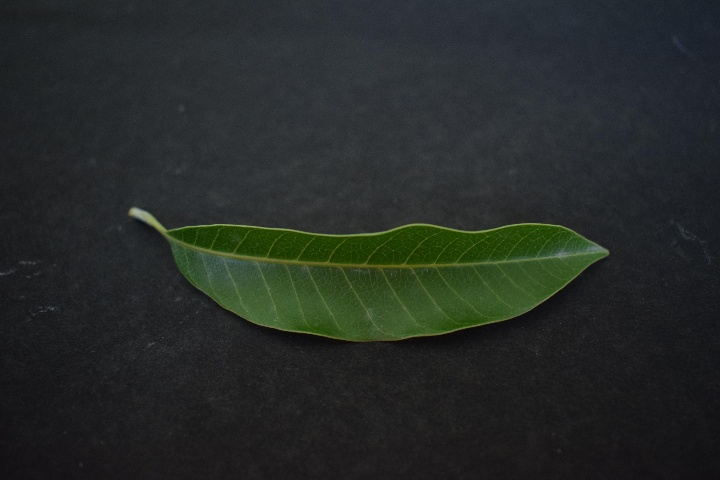healthy: (154, 219, 607, 354)
